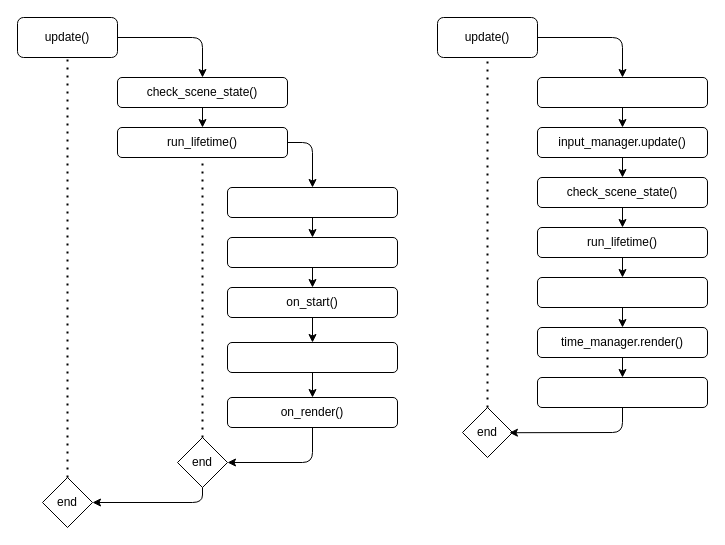
Some shapes in this 725 by 545 pixel diagram are drawn without their labels. The centre of each missing label's shape, as x and y in pixels:
handle_online(): pixel 622 292
input_manager.render(): pixel 622 392
load_entities(): pixel 312 202
on_awake(): pixel 312 252
on_update(): pixel 312 357
time_manager.update(): pixel 622 92
